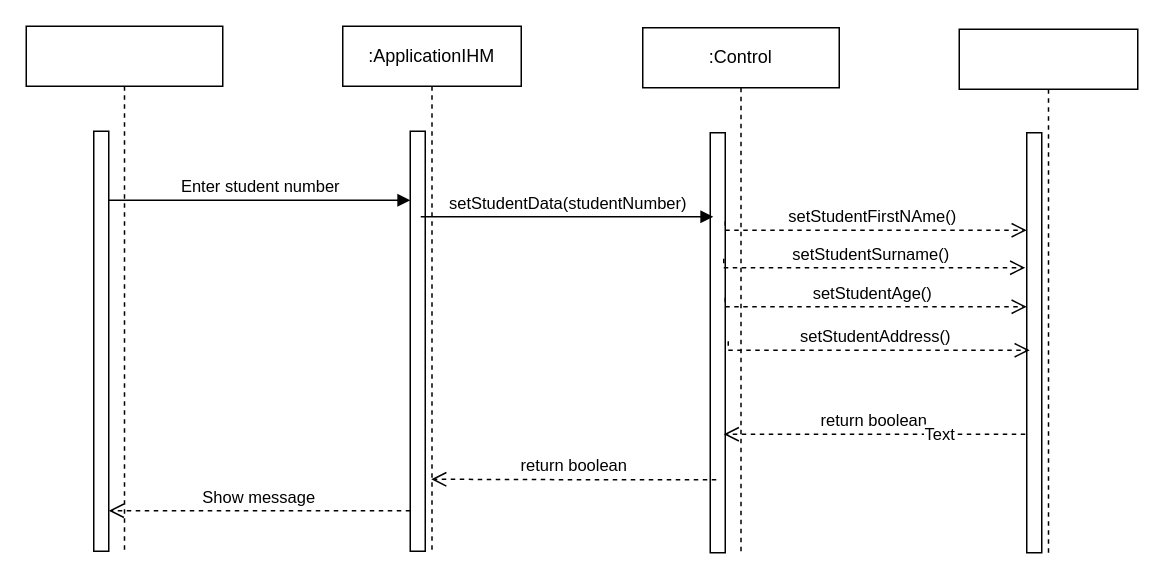
Some shapes in this 1164 by 579 pixel diagram are drawn without their labels. The shapes that lost their labels are listed below. From the top down, each one's centre as x and y in pixels, then its label:
At (124,288): ":Administrator".
At (1048,290): ":Database".
